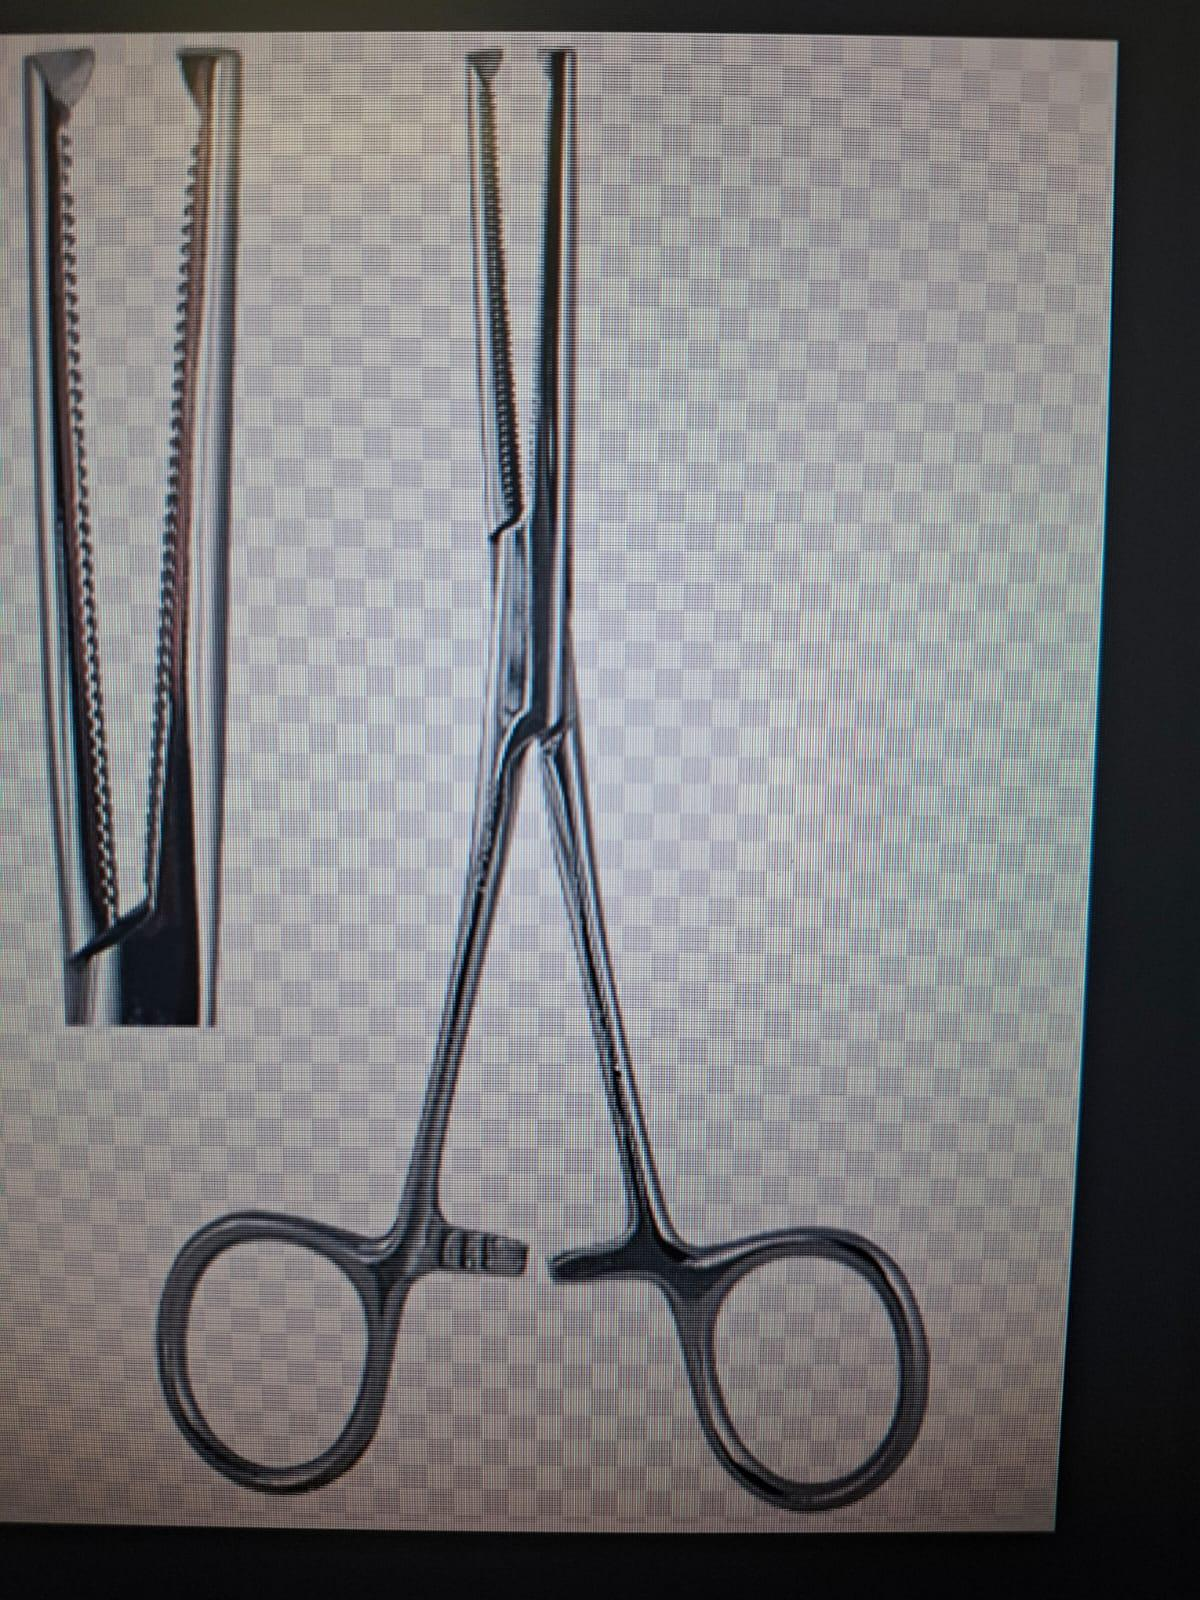Kocher Forceps: (145, 40, 965, 1520)
